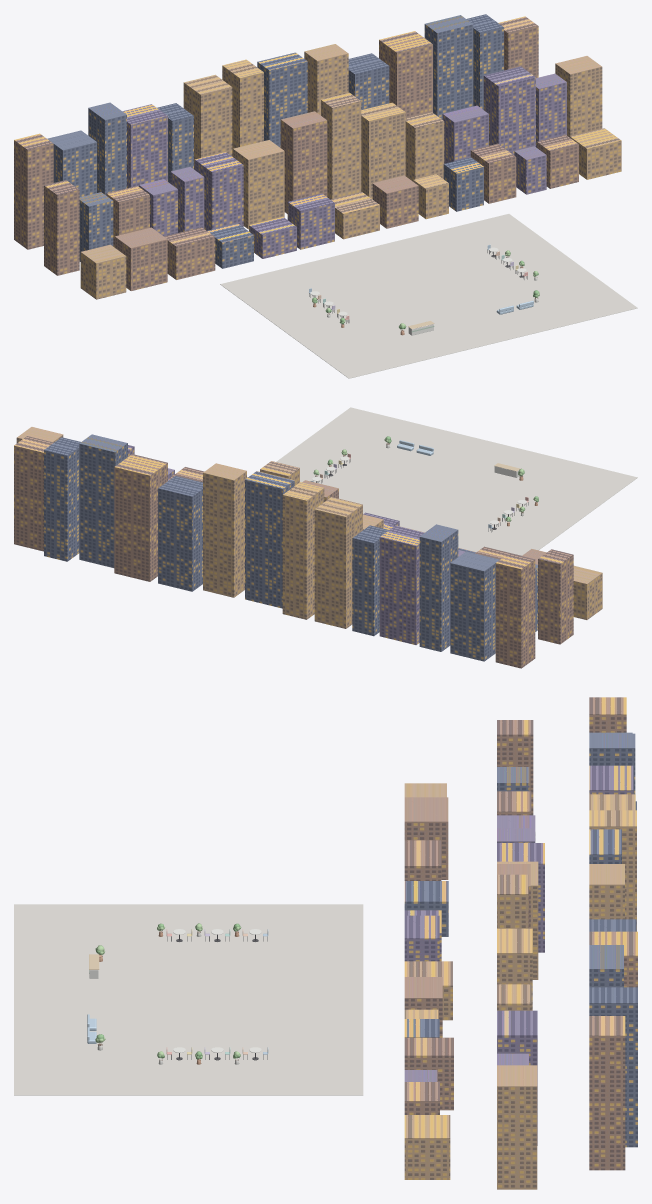
File: lobby.glb
3 views of the same model, one above another, from view 1: azimuth 30°, elevation 25°; view 2: azimuth 150°, elevation 25°; view 3: azimuth 270°, elevation 25° (orthographic). The views are drawn at different scales.
Parts seen in each view (by area): view 1: lobby, lobby_concrete; view 2: lobby, lobby_concrete, lobby_white; view 3: lobby_concrete, lobby.
Part boxes in pixels (x1,y1,x2,y2): lobby: (14,14,621,299); lobby_concrete: (220,214,637,378); lobby: (14,427,602,668); lobby_concrete: (276,407,637,555); lobby_white: (312,443,526,524); lobby_concrete: (14,904,363,1095); lobby: (404,697,637,1189).
Bounding box in the file's own units: 82.96 × 17.53 × 60.72.
Materials: 19 (4 with a texture image).
